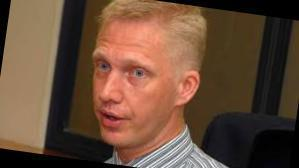Drunk: (93, 22, 167, 144)
